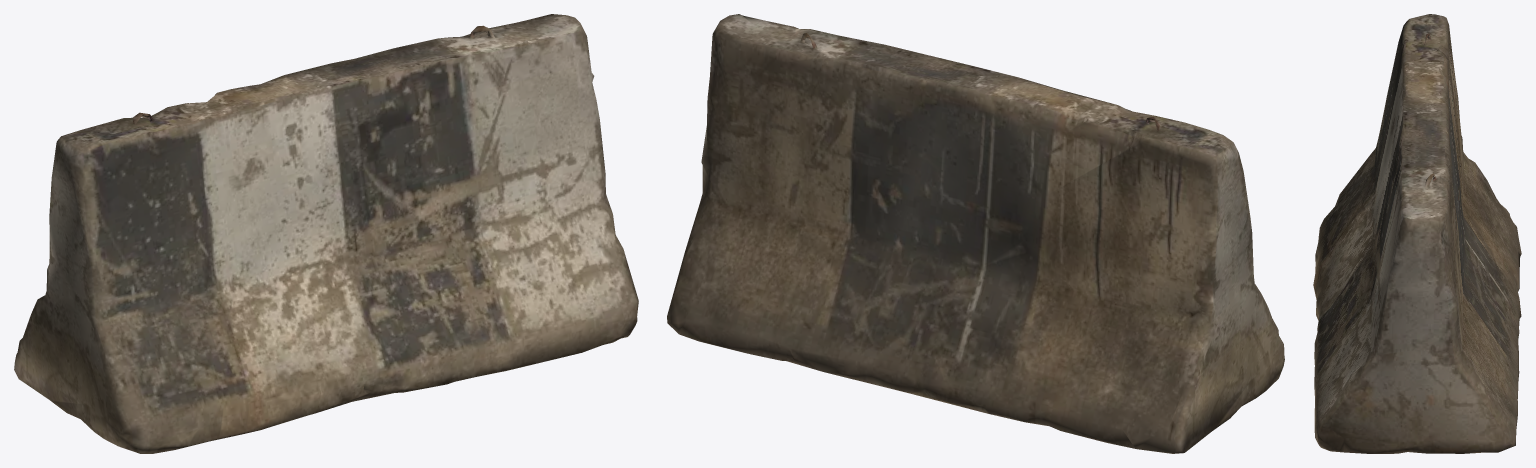
The model's file is concrete_road_barrier.glb.
The picture shows the model from 3 angles, left to right: view 1: azimuth 30°, elevation 25°; view 2: azimuth 150°, elevation 25°; view 3: azimuth 270°, elevation 25°; orthographic projection. The views are drawn at different scales.
Visible parts, largest first — view 1: concrete_road_barrier; view 2: concrete_road_barrier; view 3: concrete_road_barrier.
Part boxes in pixels (left/top/right/bottom): concrete_road_barrier: left=14, top=14, right=638, bottom=453; concrete_road_barrier: left=667, top=14, right=1284, bottom=453; concrete_road_barrier: left=1313, top=14, right=1521, bottom=453.
Bounding box in the file's own units: 1.54 × 0.8304 × 0.6379.
Materials: 1 (1 with a texture image).
